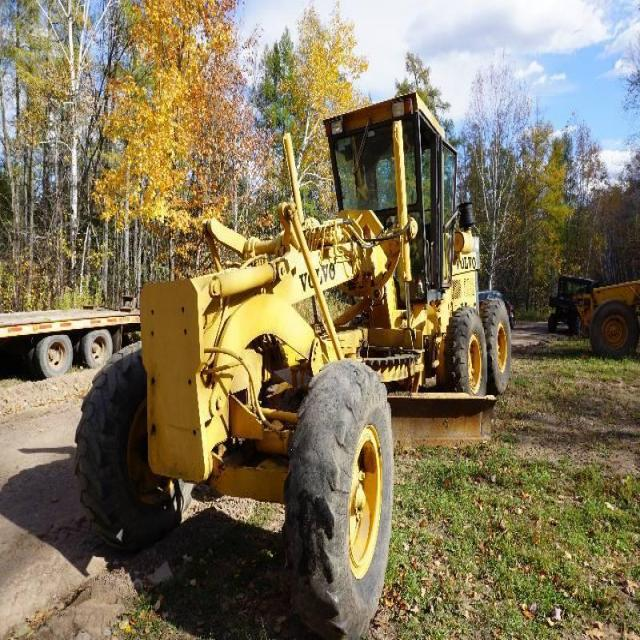Grader: (73, 79, 530, 634)
